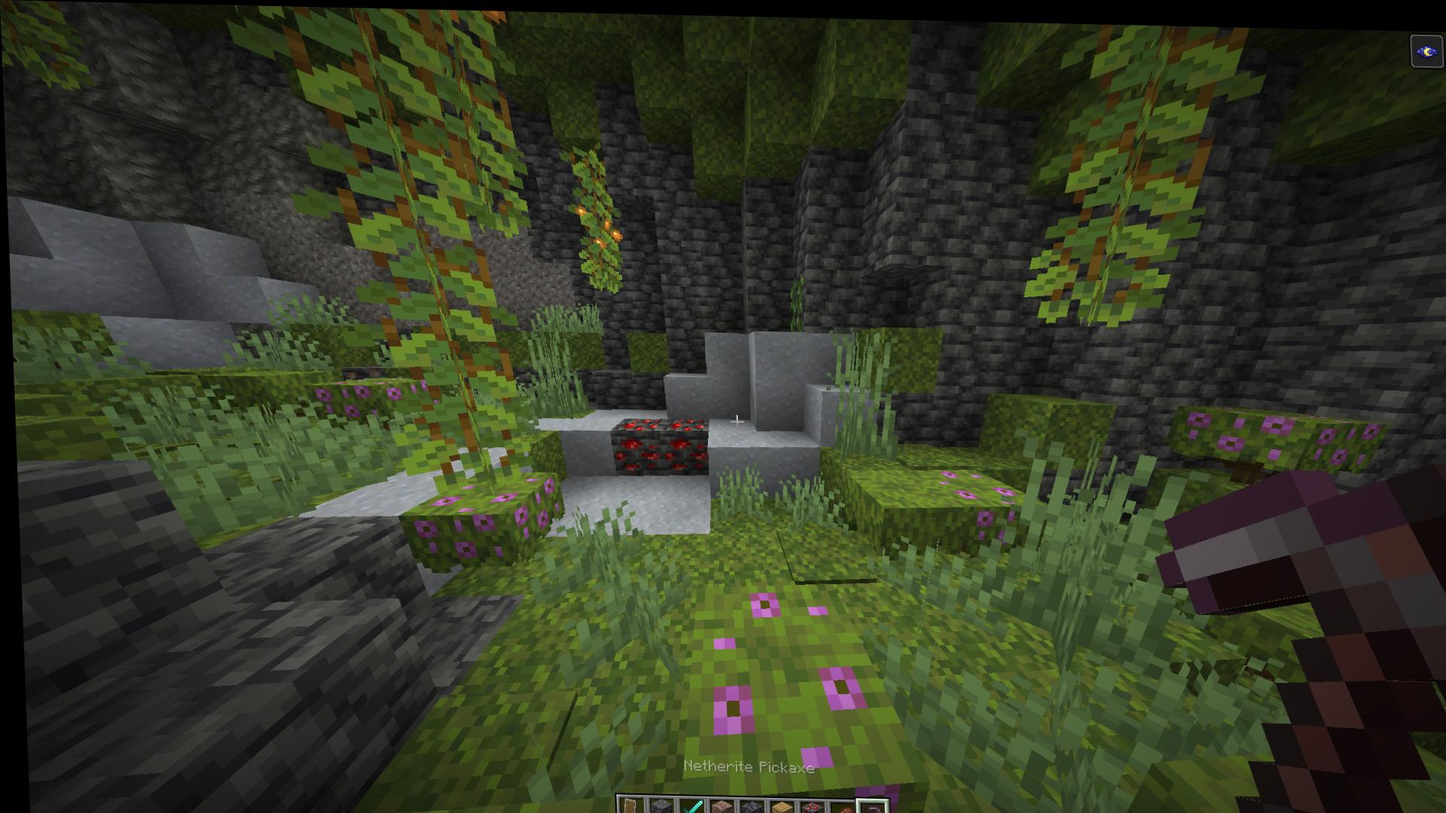redstone ore: (611, 430, 660, 472), (660, 433, 705, 472), (616, 413, 659, 432), (665, 415, 705, 430)
